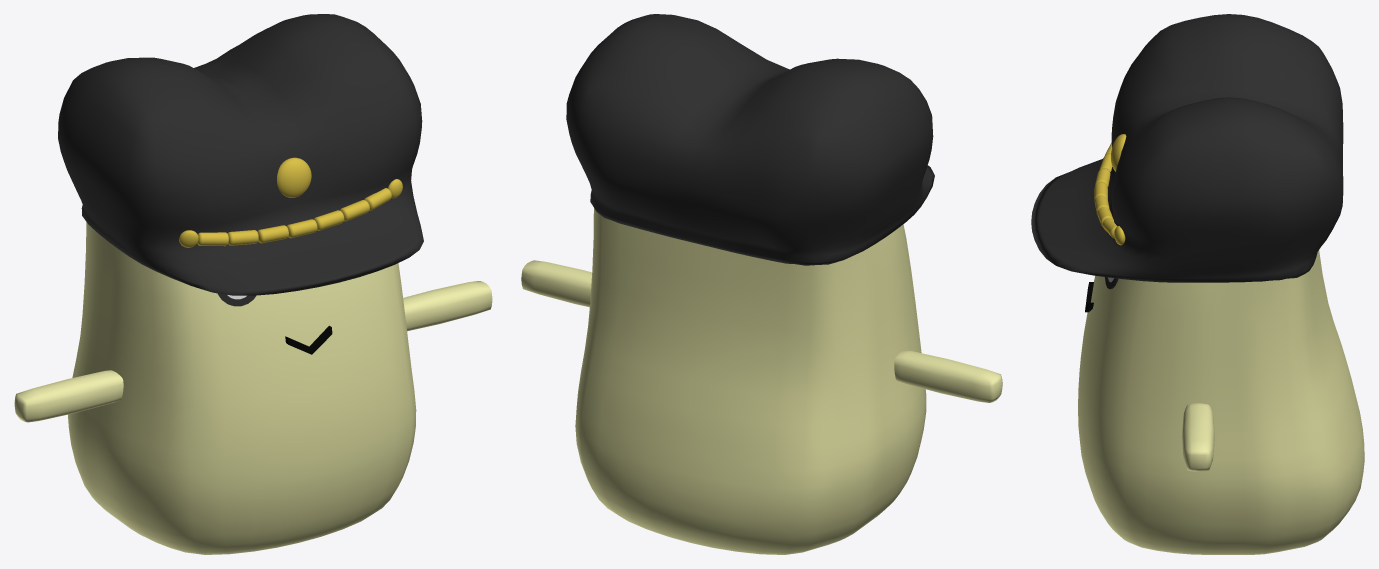
The model's file is alienSomeGuy_noHover.fbx.
3 views of the same model, side by side, from view 1: azimuth 30°, elevation 25°; view 2: azimuth 150°, elevation 25°; view 3: azimuth 270°, elevation 25° (orthographic). The views are drawn at different scales.
Visible parts, largest first — view 1: polySurface64; view 2: polySurface64; view 3: polySurface64.
Part boxes in pixels (x1=…): polySurface64: x1=14, y1=14, x2=492, y2=554; polySurface64: x1=521, y1=14, x2=1002, y2=554; polySurface64: x1=1031, y1=14, x2=1364, y2=554.
Size of the model in its own units: 192 by 180 by 121.
